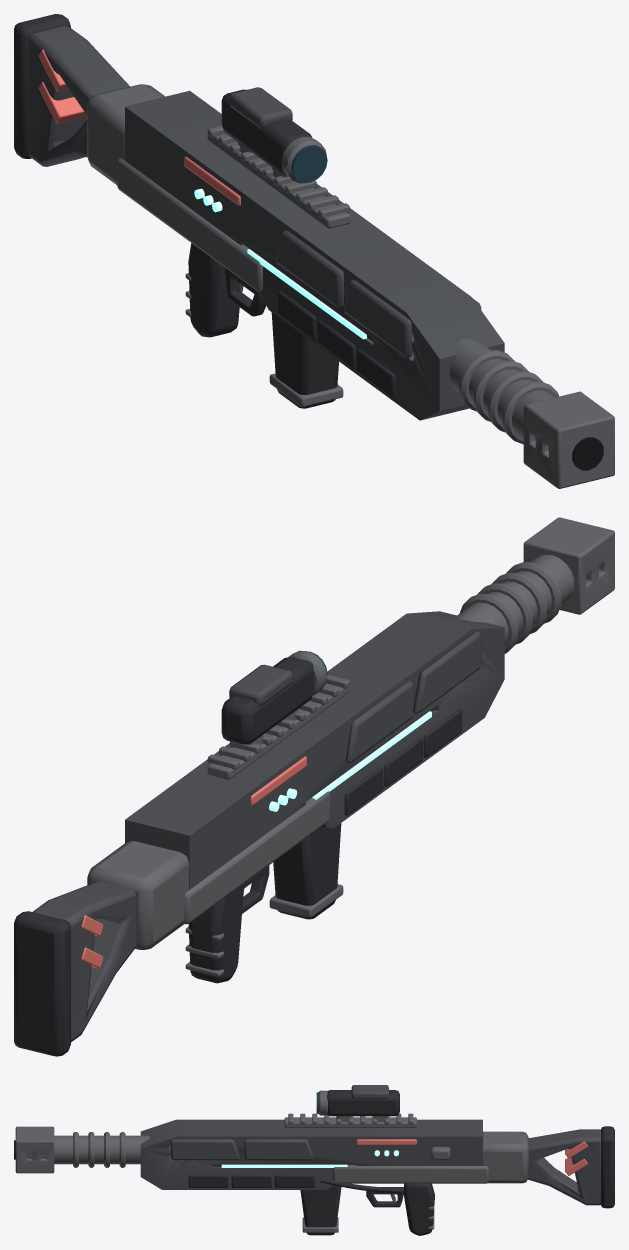
Rendered from beamRifle.glb.
3 renders of one model, top to bottom at view 1: azimuth 30°, elevation 25°; view 2: azimuth 150°, elevation 25°; view 3: azimuth 270°, elevation 25°, orthographic. The views are drawn at different scales.
Visible parts, largest first — view 1: receiver, stock, brake, frame, rearBlock, magazine, grip, scope, barrel, plate.002, plate, stockPad (+17 smaller); view 2: receiver, stockPad, stock, rearBlock, brake, frame, magazine, scope, grip, barrel, plate.002, plate (+11 smaller); view 3: receiver, stock, frame, rearBlock, barrel, brake, scope, magazine, plate.003, plate.001, grip, stockPad (+15 smaller).
Boxes of the visible parts, bbox=[...] form: receiver: bbox=[125, 90, 504, 420]; stock: bbox=[28, 26, 129, 166]; brake: bbox=[523, 391, 614, 488]; frame: bbox=[117, 158, 262, 291]; rearBlock: bbox=[87, 84, 164, 184]; magazine: bbox=[271, 312, 338, 408]; grip: bbox=[188, 243, 239, 337]; scope: bbox=[221, 89, 312, 176]; barrel: bbox=[449, 338, 555, 450]; plate.002: bbox=[344, 280, 412, 357]; plate: bbox=[276, 230, 343, 308]; stockPad: bbox=[14, 14, 70, 158]; receiver: bbox=[125, 611, 504, 889]; stockPad: bbox=[14, 911, 70, 1056]; stock: bbox=[33, 881, 136, 1042]; rearBlock: bbox=[87, 841, 188, 949]; brake: bbox=[523, 517, 614, 614]; frame: bbox=[183, 791, 329, 924]; magazine: bbox=[273, 823, 341, 919]; scope: bbox=[221, 657, 313, 744]; grip: bbox=[188, 884, 243, 983]; barrel: bbox=[457, 554, 599, 644]; plate.002: bbox=[413, 631, 481, 713]; plate: bbox=[345, 681, 413, 763]; receiver: bbox=[140, 1119, 482, 1189]; stock: bbox=[528, 1129, 600, 1205]; frame: bbox=[332, 1165, 488, 1183]; rearBlock: bbox=[483, 1131, 528, 1183]; barrel: bbox=[27, 1135, 149, 1164]; brake: bbox=[15, 1126, 54, 1173]; scope: bbox=[327, 1090, 399, 1116]; magazine: bbox=[300, 1185, 341, 1235]; plate.003: bbox=[170, 1139, 240, 1160]; plate.001: bbox=[244, 1139, 313, 1160]; grip: bbox=[403, 1183, 434, 1235]; stockPad: bbox=[601, 1126, 614, 1208].
Size of the model in its own units: 0.45 by 1.33 by 5.01.
